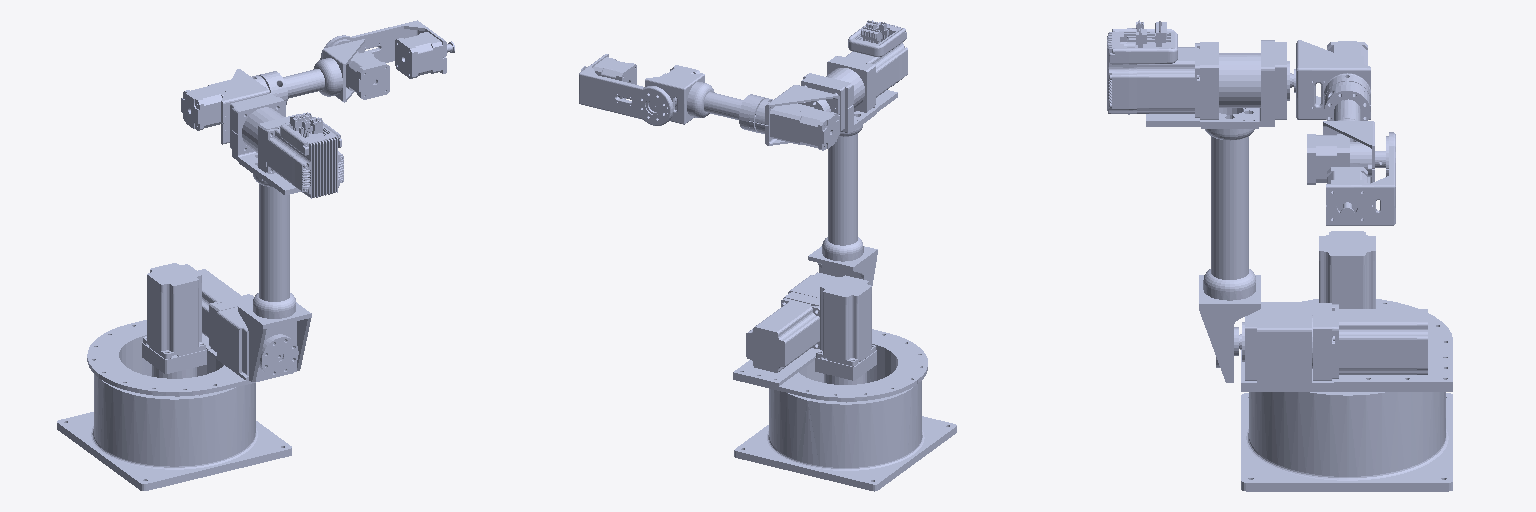
robot.urdf — AG-ARM:
<?xml version="1.0" encoding="utf-8"?>
<!-- This URDF was automatically created by SolidWorks to URDF Exporter! Originally created by [author] ([email redacted]) 
     Commit Version: 1.6.0-1-g15f4949  Build Version: 1.6.7594.29634
     For more information, please see http://wiki.ros.org/sw_urdf_exporter -->
<robot
  name="AG-ARM">
  <link
    name="base_link">
    <inertial>
      <origin
        xyz="1.0152E-11 0.040357 2.4248E-06"
        rpy="0 0 0" />
      <mass
        value="1.4779" />
      <inertia
        ixx="0.0070853"
        ixy="5.3113E-13"
        ixz="2.2969E-13"
        iyy="0.011853"
        iyz="-5.3973E-08"
        izz="0.0070854" />
    </inertial>
    <visual>
      <origin
        xyz="0 0 0"
        rpy="0 0 0" />
      <geometry>
        <mesh
          filename="package://AG-ARM/base_link.STL" />
      </geometry>
      <material
        name="">
        <color
          rgba="0.79216 0.81961 0.93333 1" />
      </material>
    </visual>
    <collision>
      <origin
        xyz="0 0 0"
        rpy="0 0 0" />
      <geometry>
        <mesh
          filename="package://AG-ARM/base_link.STL" />
      </geometry>
    </collision>
  </link>
  <link
    name="Link1">
    <inertial>
      <origin
        xyz="-0.032947 0.024006 -0.0067532"
        rpy="0 0 0" />
      <mass
        value="1.7773" />
      <inertia
        ixx="0.0034771"
        ixy="8.402E-05"
        ixz="4.0453E-07"
        iyy="0.00423"
        iyz="9.2255E-05"
        izz="0.0028706" />
    </inertial>
    <visual>
      <origin
        xyz="0 0 0"
        rpy="0 0 0" />
      <geometry>
        <mesh
          filename="package://AG-ARM/Link1.STL" />
      </geometry>
      <material
        name="">
        <color
          rgba="0.79216 0.81961 0.93333 1" />
      </material>
    </visual>
    <collision>
      <origin
        xyz="0 0 0"
        rpy="0 0 0" />
      <geometry>
        <mesh
          filename="package://AG-ARM/Link1.STL" />
      </geometry>
    </collision>
  </link>
  <joint
    name="Joint1"
    type="revolute">
    <origin
      xyz="0 0 0.1065"
      rpy="1.5708 0 3.141592654" />
    <parent
      link="base_link" />
    <child
      link="Link1" />
    <axis
      xyz="0 -1 0" />
    <limit
      lower="-3.1416"
      upper="3.1416"
      effort="0"
      velocity="0" />
  </joint>
  <link
    name="Link2">
    <inertial>
      <origin
        xyz="-0.018808 -2.3305E-05 -0.24154"
        rpy="0 0 0" />
      <mass
        value="0.8748" />
      <inertia
        ixx="0.0011927"
        ixy="-6.185E-08"
        ixz="4.1559E-05"
        iyy="0.0013702"
        iyz="2.6761E-07"
        izz="0.00070077" />
    </inertial>
    <visual>
      <origin
        xyz="0 0 0"
        rpy="0 0 0" />
      <geometry>
        <mesh
          filename="package://AG-ARM/Link2.STL" />
      </geometry>
      <material
        name="">
        <color
          rgba="0.79216 0.81961 0.93333 1" />
      </material>
    </visual>
    <collision>
      <origin
        xyz="0 0 0"
        rpy="0 0 0" />
      <geometry>
        <mesh
          filename="package://AG-ARM/Link2.STL" />
      </geometry>
    </collision>
  </link>
  <joint
    name="Joint2"
    type="revolute">
    <origin
      xyz="-0.075 0.0485 -0.122"
      rpy="1.5708 -1.5708 0" />
    <parent
      link="Link1" />
    <child
      link="Link2" />
    <axis
      xyz="1 0 0" />
    <limit
      lower="-3.1416"
      upper="3.1416"
      effort="0"
      velocity="0" />
  </joint>
  <link
    name="Link3">
    <inertial>
      <origin
        xyz="0.039428 1.3417E-05 0.0002002"
        rpy="0 0 0" />
      <mass
        value="0.23594" />
      <inertia
        ixx="0.00016941"
        ixy="-6.9616E-08"
        ixz="2.26E-05"
        iyy="0.00017893"
        iyz="6.2607E-08"
        izz="0.00011107" />
    </inertial>
    <visual>
      <origin
        xyz="0 0 0"
        rpy="0 0 0" />
      <geometry>
        <mesh
          filename="package://AG-ARM/Link3.STL" />
      </geometry>
      <material
        name="">
        <color
          rgba="0.79216 0.81961 0.93333 1" />
      </material>
    </visual>
    <collision>
      <origin
        xyz="0 0 0"
        rpy="0 0 0" />
      <geometry>
        <mesh
          filename="package://AG-ARM/Link3.STL" />
      </geometry>
    </collision>
  </link>
  <joint
    name="Joint3"
    type="revolute">
    <origin
      xyz="0.0715 0 -0.299"
      rpy="1.5708 0 0" />
    <parent
      link="Link2" />
    <child
      link="Link3" />
    <axis
      xyz="-1 0 0" />
    <limit
      lower="-3.1415926"
      upper="3.1415926"
      effort="0"
      velocity="0" />
  </joint>
  <link
    name="Link4">
    <inertial>
      <origin
        xyz="-0.0036544 -0.10244 -4.2839E-05"
        rpy="0 0 0" />
      <mass
        value="0.20981" />
      <inertia
        ixx="0.00013457"
        ixy="3.7665E-06"
        ixz="-1.0845E-07"
        iyy="8.7701E-05"
        iyz="3.7078E-07"
        izz="0.00015348" />
    </inertial>
    <visual>
      <origin
        xyz="0 0 0"
        rpy="0 0 0" />
      <geometry>
        <mesh
          filename="package://AG-ARM/Link4.STL" />
      </geometry>
      <material
        name="">
        <color
          rgba="0.79216 0.81961 0.93333 1" />
      </material>
    </visual>
    <collision>
      <origin
        xyz="0 0 0"
        rpy="0 0 0" />
      <geometry>
        <mesh
          filename="package://AG-ARM/Link4.STL" />
      </geometry>
    </collision>
  </link>
  <joint
    name="Joint4"
    type="revolute">
    <origin
      xyz="0.0505 0 -0.051"
      rpy="1.5708 0 0" />
    <parent
      link="Link3" />
    <child
      link="Link4" />
    <axis
      xyz="0 1 0" />
    <limit
      lower="-3.1415926"
      upper="3.1415926"
      effort="0"
      velocity="0" />
  </joint>
  <link
    name="Link5">
    <inertial>
      <origin
        xyz="2.9363E-07 0.027533 0.073361"
        rpy="0 0 0" />
      <mass
        value="0.14057" />
      <inertia
        ixx="0.00013835"
        ixy="-3.9823E-11"
        ixz="-1.7895E-09"
        iyy="0.00013428"
        iyz="-2.0279E-05"
        izz="4.9732E-05" />
    </inertial>
    <visual>
      <origin
        xyz="0 0 0"
        rpy="0 0 0" />
      <geometry>
        <mesh
          filename="package://AG-ARM/Link5.STL" />
      </geometry>
      <material
        name="">
        <color
          rgba="0.79216 0.81961 0.93333 1" />
      </material>
    </visual>
    <collision>
      <origin
        xyz="0 0 0"
        rpy="0 0 0" />
      <geometry>
        <mesh
          filename="package://AG-ARM/Link5.STL" />
      </geometry>
    </collision>
  </link>
  <joint
    name="Joint5"
    type="revolute">
    <origin
      xyz="0.045 -0.142 0"
      rpy="1.5708 -1.5708 0" />
    <parent
      link="Link4" />
    <child
      link="Link5" />
    <axis
      xyz="0 1 0" />
    <limit
      lower="-3.1415926"
      upper="3.1415926"
      effort="0"
      velocity="0" />
  </joint>
  <link
    name="Link6">
    <inertial>
      <origin
        xyz="-1.6898E-10 -5.5511E-17 0.0085"
        rpy="0 0 0" />
      <mass
        value="0.0014137" />
      <inertia
        ixx="6.8506E-08"
        ixy="-4.6676E-26"
        ixz="-2.2143E-17"
        iyy="6.8506E-08"
        iyz="5.3848E-23"
        izz="2.6507E-08" />
    </inertial>
    <visual>
      <origin
        xyz="0 0 0"
        rpy="0 0 0" />
      <geometry>
        <mesh
          filename="package://AG-ARM/Link6.STL" />
      </geometry>
      <material
        name="">
        <color
          rgba="0.79216 0.81961 0.93333 1" />
      </material>
    </visual>
    <collision>
      <origin
        xyz="0 0 0"
        rpy="0 0 0" />
      <geometry>
        <mesh
          filename="package://AG-ARM/Link6.STL" />
      </geometry>
    </collision>
  </link>
  <joint
    name="Joint6"
    type="revolute">
    <origin
      xyz="0 0.045 0.136"
      rpy="3.1416 0 -1.5708" />
    <parent
      link="Link5" />
    <child
      link="Link6" />
    <axis
      xyz="0 0 1" />
    <limit
      lower="-3.1415926"
      upper="3.1415926"
      effort="0"
      velocity="0" />
  </joint>
</robot>

--- What the picture shows (computed from the rendered views, not written in the file) ---
Views: 3 orthographic renders of the robot side by side, from view 1: azimuth 30°, elevation 25°; view 2: azimuth 150°, elevation 25°; view 3: azimuth 270°, elevation 25°.
Model AG-ARM with 7 links and 6 joints (6 revolute), rooted at base_link, posed every joint at zero.
Links seen in each view (by area): view 1: Link2, base_link, Link1, Link4, Link5, Link3; view 2: Link1, base_link, Link2, Link3, Link5, Link4; view 3: Link2, Link1, base_link, Link4, Link5, Link3.
Link boxes in pixels (x1=…): Link2: x1=230, y1=94, x2=343, y2=381; base_link: x1=57, y1=374, x2=291, y2=490; Link1: x1=87, y1=263, x2=293, y2=396; Link4: x1=259, y1=39, x2=389, y2=104; Link5: x1=320, y1=20, x2=446, y2=78; Link3: x1=181, y1=69, x2=269, y2=144; Link1: x1=733, y1=272, x2=927, y2=401; base_link: x1=734, y1=381, x2=956, y2=491; Link2: x1=801, y1=20, x2=907, y2=285; Link3: x1=755, y1=85, x2=839, y2=150; Link5: x1=579, y1=54, x2=673, y2=125; Link4: x1=645, y1=65, x2=765, y2=132; Link2: x1=1107, y1=20, x2=1293, y2=382; Link1: x1=1239, y1=231, x2=1452, y2=391; base_link: x1=1241, y1=392, x2=1452, y2=491; Link4: x1=1307, y1=81, x2=1381, y2=184; Link5: x1=1326, y1=132, x2=1395, y2=225; Link3: x1=1294, y1=40, x2=1370, y2=119.
Bounding box of the posed robot: 0.514 × 0.36 × 0.5178 m (x, y, z).
Meshes: 7 distinct files referenced, 7 mesh visuals loaded (7 binary STL).